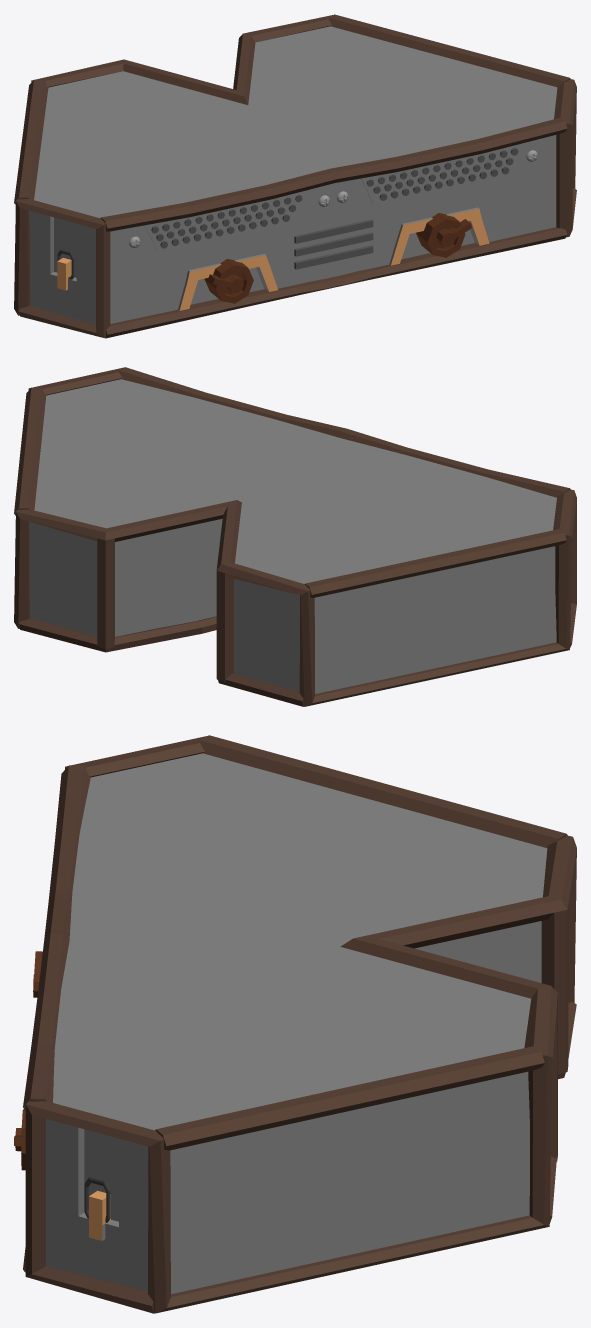
The picture shows the model from 3 angles, top to bottom: view 1: azimuth 30°, elevation 25°; view 2: azimuth 150°, elevation 25°; view 3: azimuth 270°, elevation 25°; orthographic projection. The views are drawn at different scales.
Visible parts, largest first — view 1: 柱体.002; view 2: 柱体.002; view 3: 柱体.002.
Part boxes in pixels (bbox=[...]): 柱体.002: bbox=[14, 14, 576, 338]; 柱体.002: bbox=[14, 367, 576, 706]; 柱体.002: bbox=[14, 735, 576, 1313].
Bounding box in the file's own units: 613 × 127 × 360.
